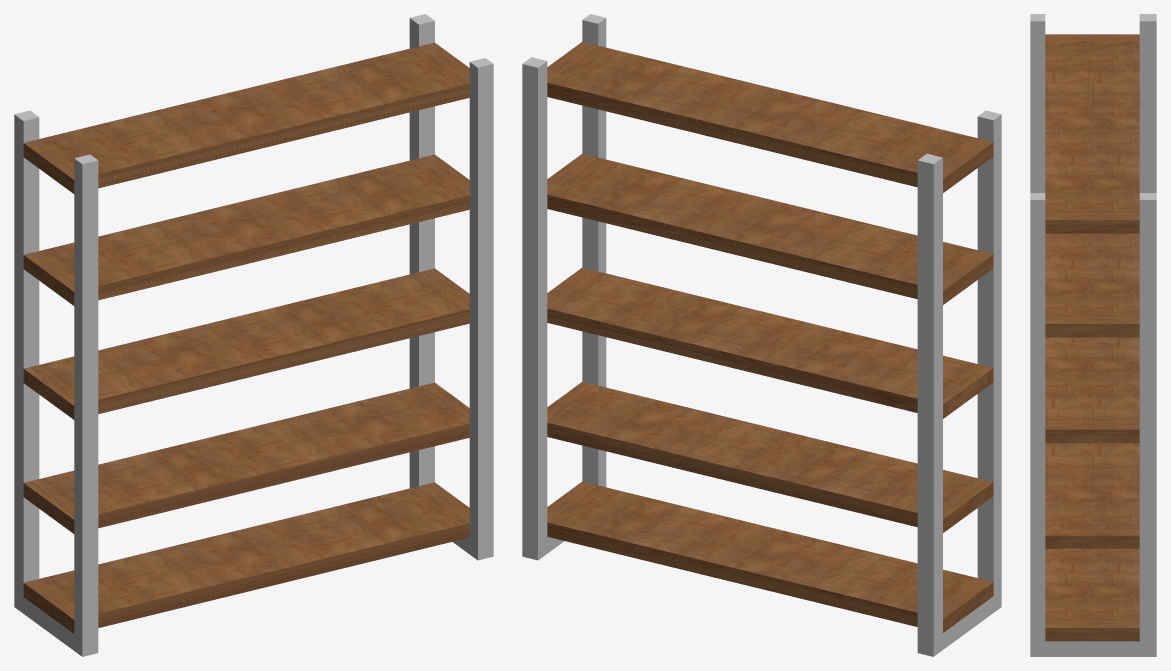
The model's file is Estante_5_MaC_MeC_G.fbx.
3 views of the same model, side by side, from view 1: azimuth 30°, elevation 25°; view 2: azimuth 150°, elevation 25°; view 3: azimuth 270°, elevation 25° (orthographic). The views are drawn at different scales.
Visible parts, largest first — view 1: polySurface30; view 2: polySurface30; view 3: polySurface30.
Part boxes in pixels (x1,y1,x2,y2): polySurface30: [14, 14, 493, 656]; polySurface30: [522, 14, 1001, 656]; polySurface30: [1030, 14, 1156, 656].
Size of the model in its own units: 2.84 by 3.25 by 0.8151.
